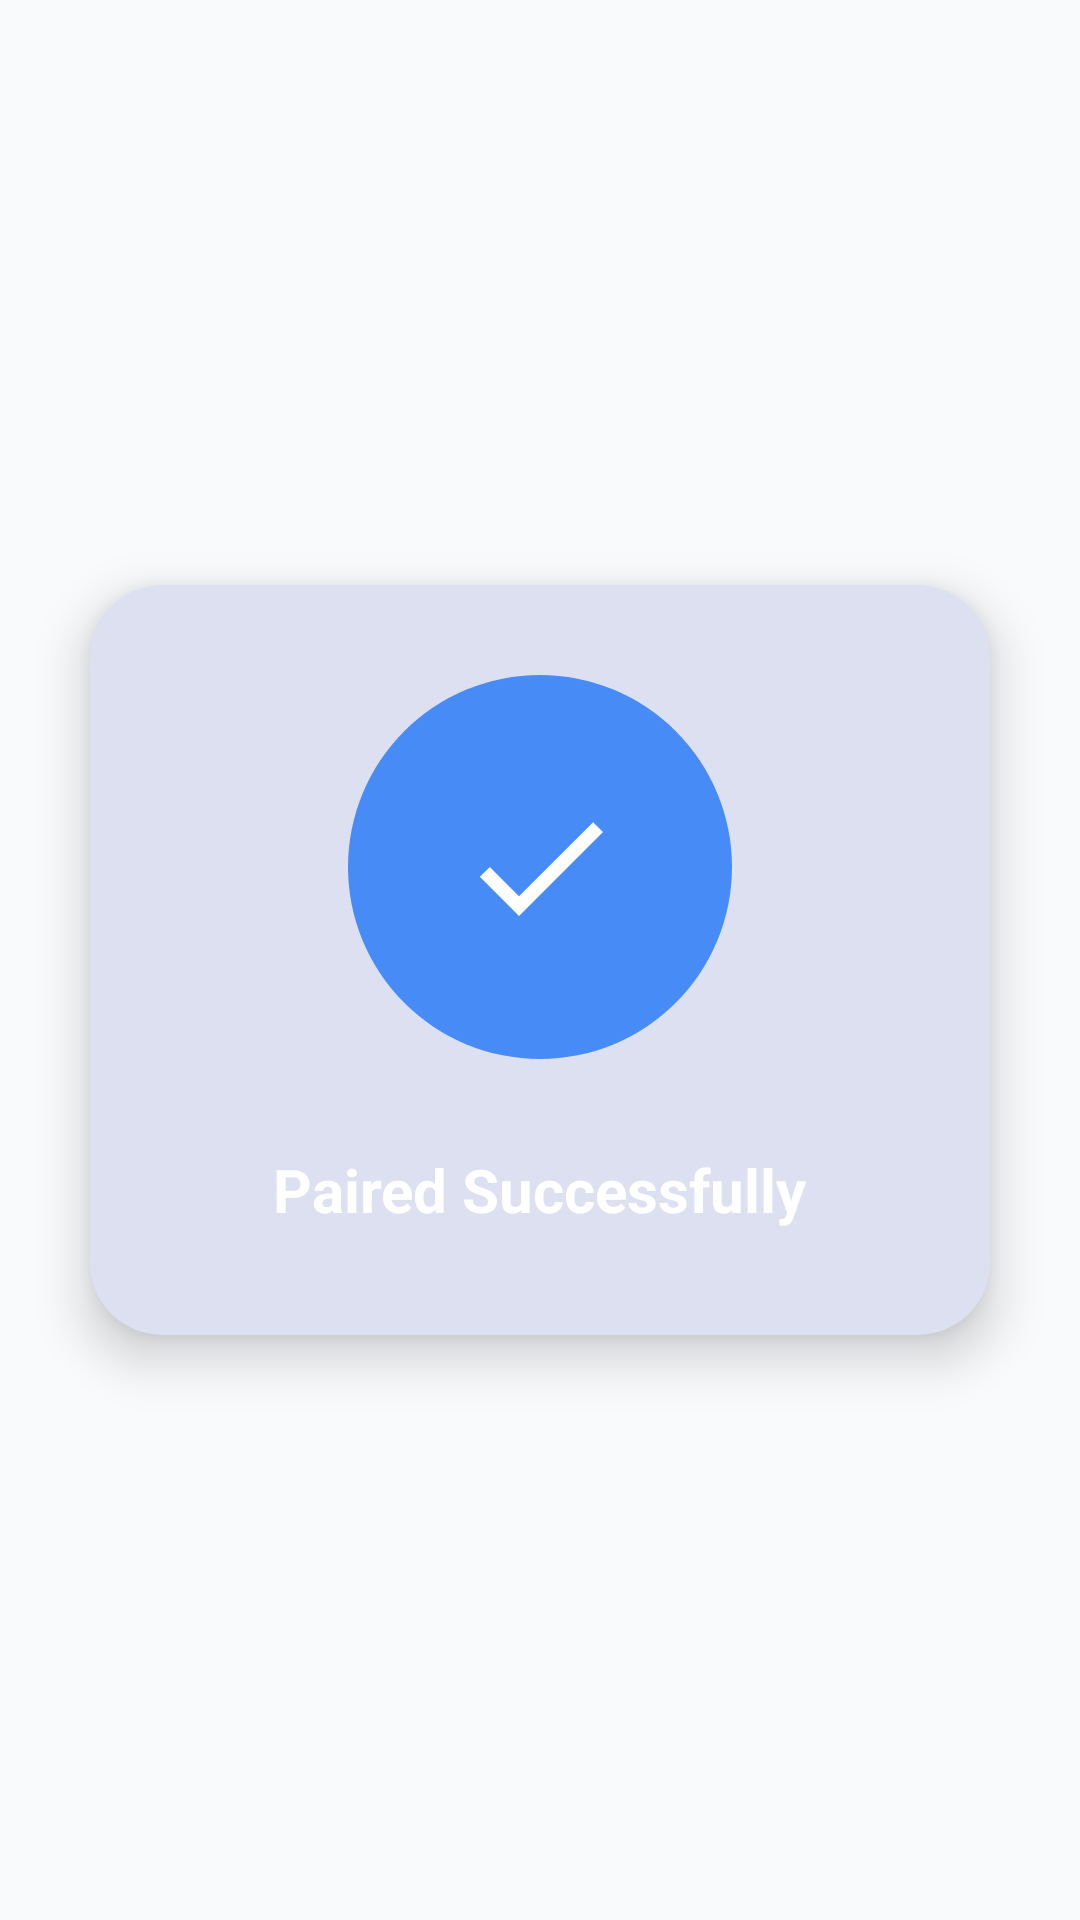

Icon click points for this 1080*1920 phone screenshot, format point (x, y):
Success: point (541, 869)
